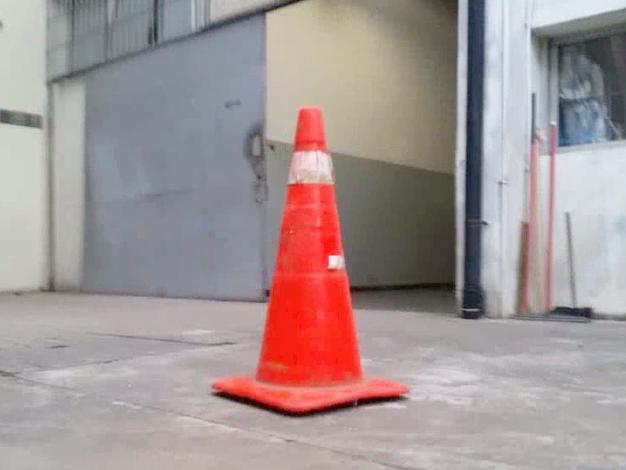0 cone: (212, 107, 414, 413)
